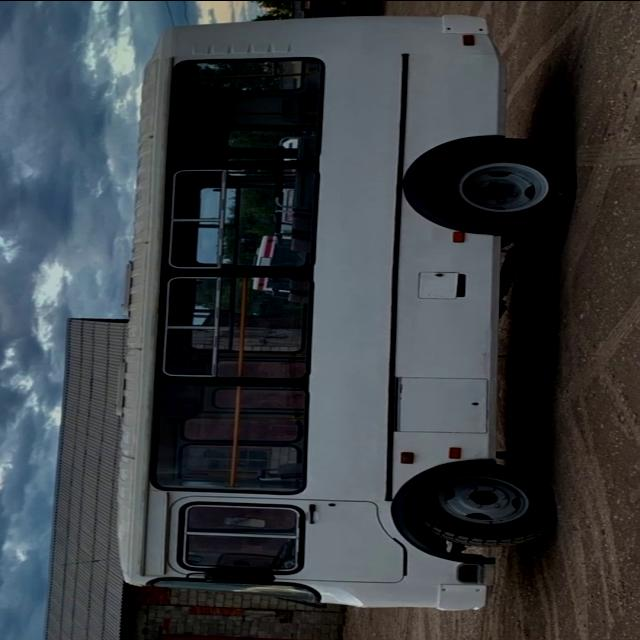bus: (103, 10, 584, 616)
